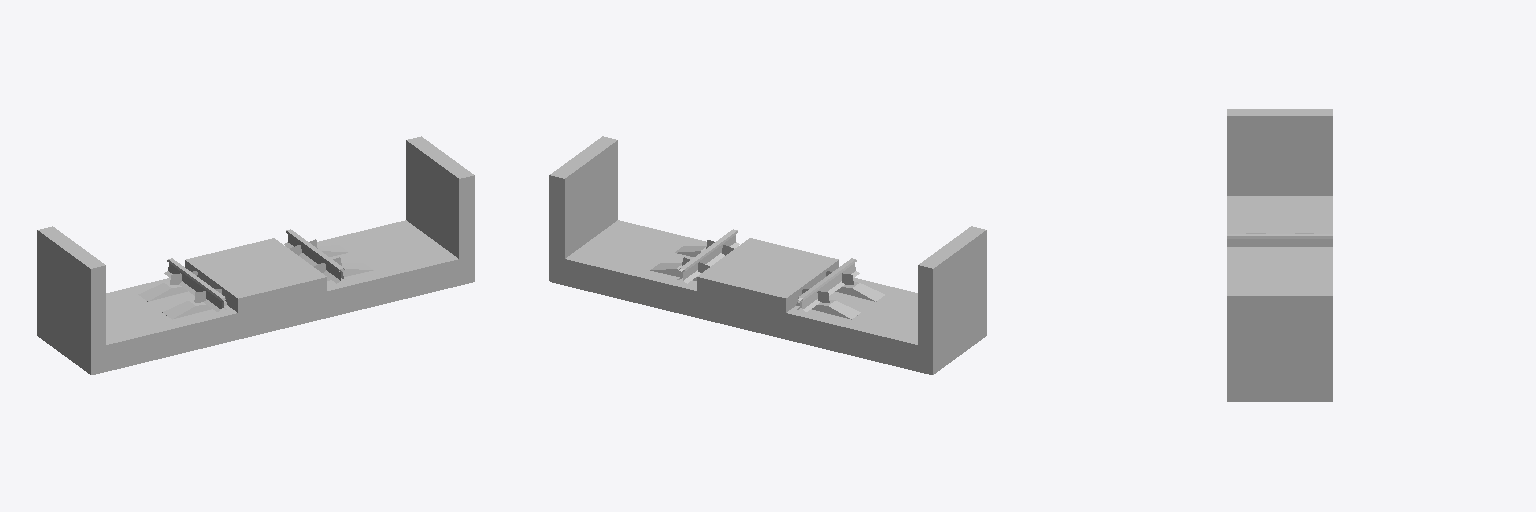
The model's file is rail_bridge_concrete_gray.obj.
3 renders of one model, left to right at view 1: azimuth 30°, elevation 25°; view 2: azimuth 150°, elevation 25°; view 3: azimuth 270°, elevation 25°, orthographic.
Visible parts, largest first — view 1: Cube.003, Cube.004, Cube.001, Cube.002, rail_c; view 2: Cube.003, Cube.004, Cube.002, Cube.001, rail_c; view 3: Cube.001, Cube.004, Cube.002, Cube.003, rail_c.
Part boxes in pixels (x1,y1,x2,y2): Cube.003: (93,220,472,374); Cube.004: (37,226,105,374); Cube.001: (406,136,474,284); Cube.002: (185,238,326,314); rail_c: (138,229,373,319); Cube.003: (551,220,931,374); Cube.004: (918,226,986,374); Cube.002: (697,238,838,314); Cube.001: (549,136,617,281); rail_c: (650,229,884,319); Cube.001: (1227,289,1332,401); Cube.004: (1227,109,1332,195); Cube.002: (1227,247,1332,288); Cube.003: (1227,196,1332,233); rail_c: (1227,233,1332,246).
Bounding box in the file's own units: 5 × 1.33 × 1.2.